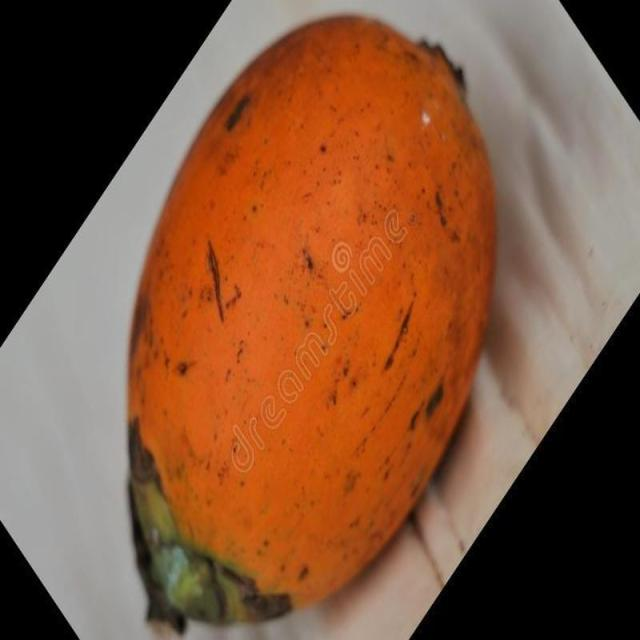good: (125, 13, 498, 638)
